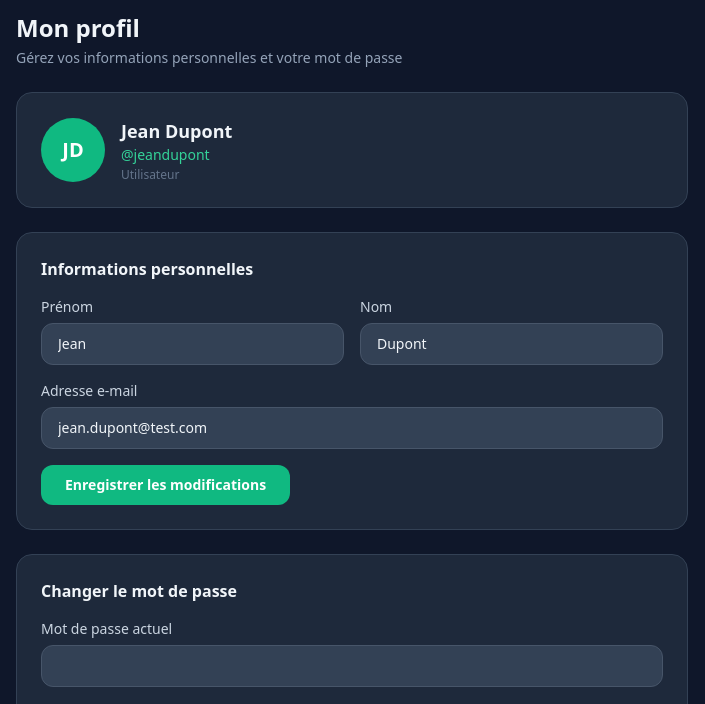
it: ProfilePage › Formulaire informations personnelles › affiche une erreur si un champ est vide
Clear the field labelled "Prénom" at (192, 344), box [41,323,344,365]
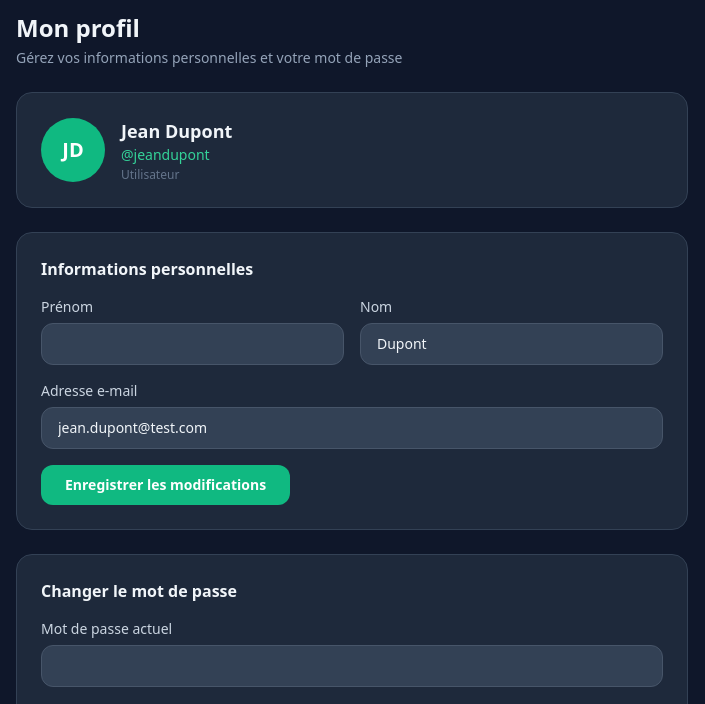
Click the button "Enregistrer les modifications" at (166, 485), box [41,465,290,505]
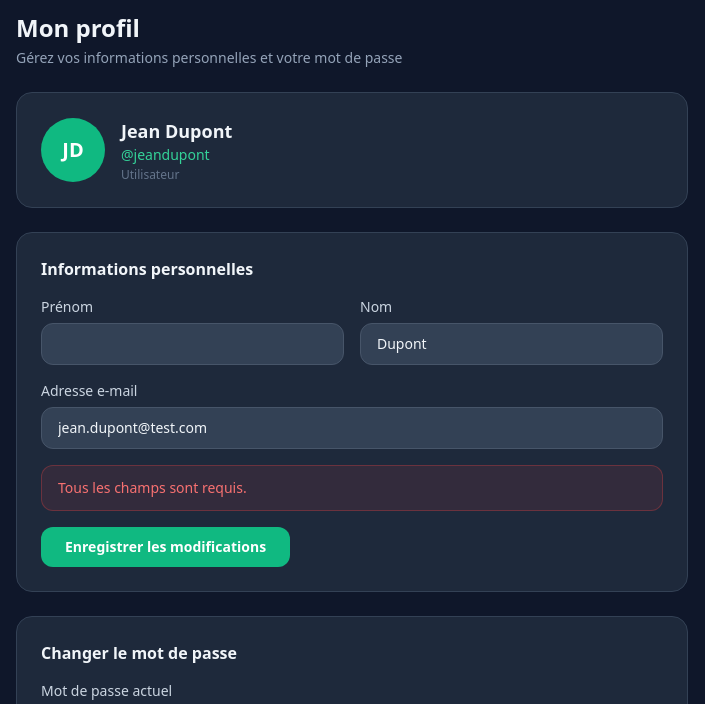
Expected: the text "Tous les champs sont requis." is shown, [41,465,663,511]
